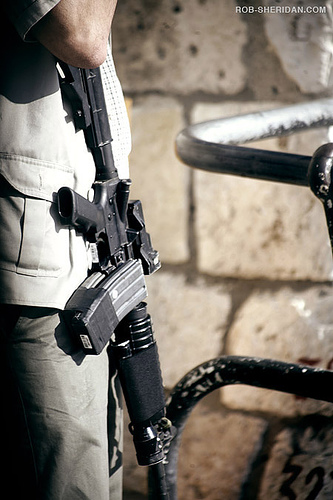rifle: (58, 94, 187, 482)
rifle in hand: (41, 4, 241, 495)
